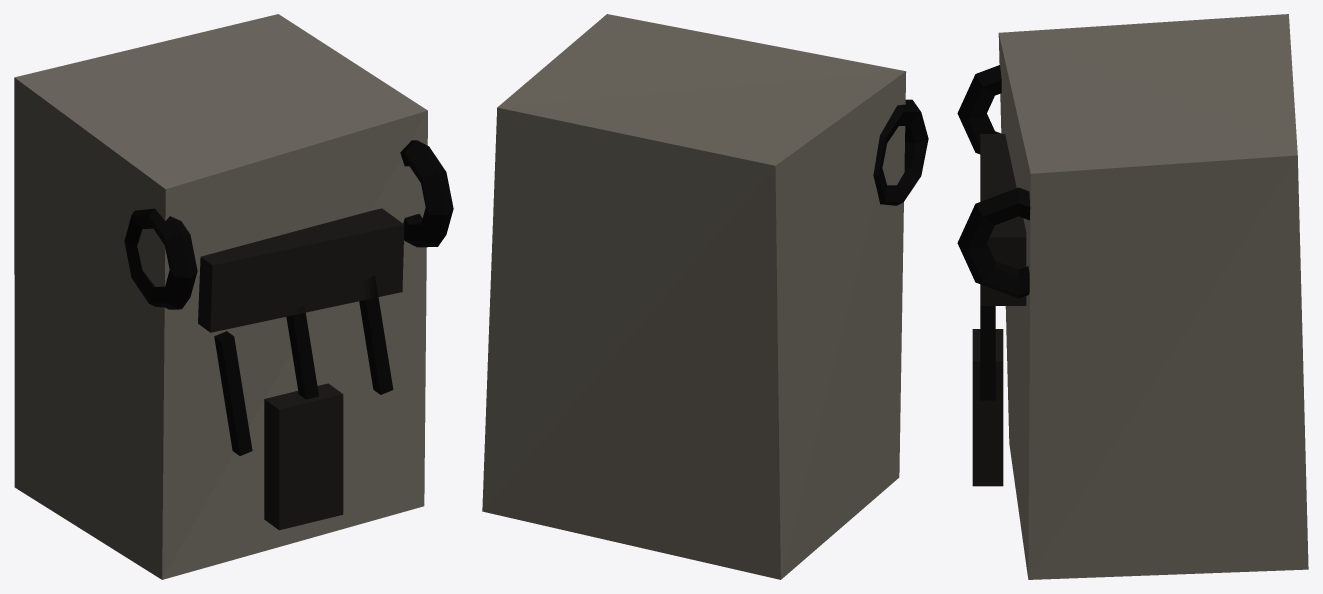
File: stone-wanderer-chained-visor-v1.glb
3 views of the same model, side by side, from view 1: azimuth 30°, elevation 25°; view 2: azimuth 150°, elevation 25°; view 3: azimuth 270°, elevation 25° (orthographic). The views are drawn at different scales.
Parts seen in each view (by area): view 1: Part_0, Part_1, Part_7, Part_2, Part_3, Part_4, Part_6, Part_5; view 2: Part_0, Part_2; view 3: Part_0, Part_3, Part_1, Part_7, Part_2, Part_6.
Boxes of the visible parts, x1,y1,x2,y2 form: Part_0: (14,14,427,579); Part_1: (198,208,404,332); Part_7: (264,383,343,530); Part_2: (124,208,197,309); Part_3: (400,140,453,247); Part_4: (214,331,252,455); Part_6: (359,275,393,394); Part_5: (286,306,318,399); Part_0: (482,14,906,579); Part_2: (873,99,928,205); Part_0: (998,14,1308,579); Part_3: (957,187,1030,298); Part_1: (980,134,1026,305); Part_7: (972,329,1003,486); Part_2: (957,65,1001,154); Part_6: (980,306,995,400).
Bounding box in the file's own units: 0.4561 × 0.6082 × 0.4577.
3 materials, 1 textured.
